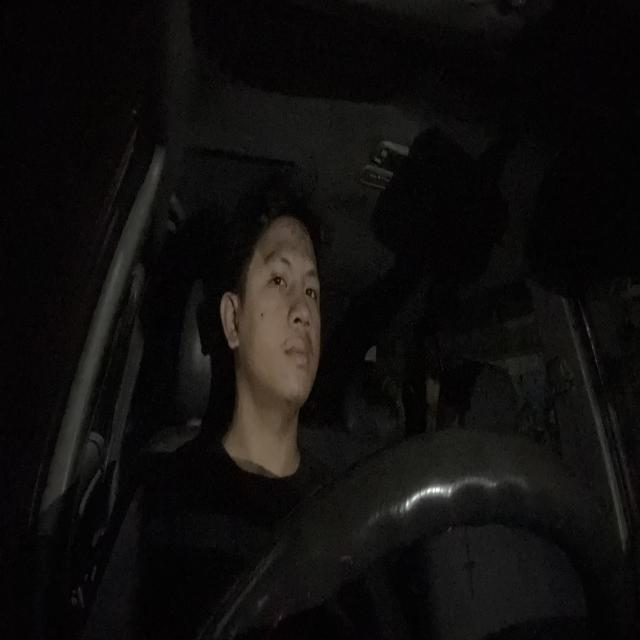open: (264, 250, 294, 300), (301, 265, 320, 303)
